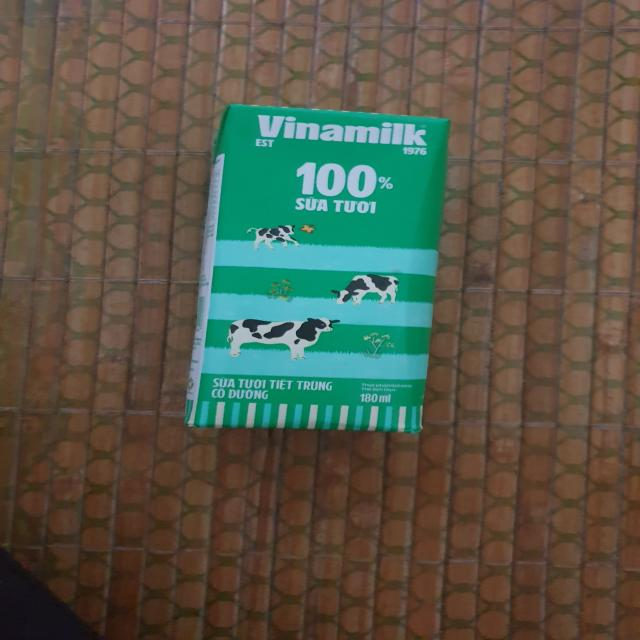Vina: (187, 109, 453, 434)
